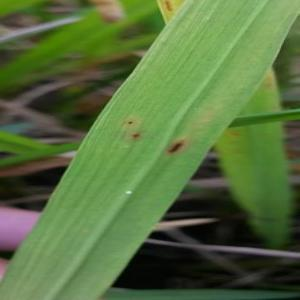Brown_Spot: (161, 135, 192, 159), (127, 128, 147, 142), (124, 118, 136, 128)
